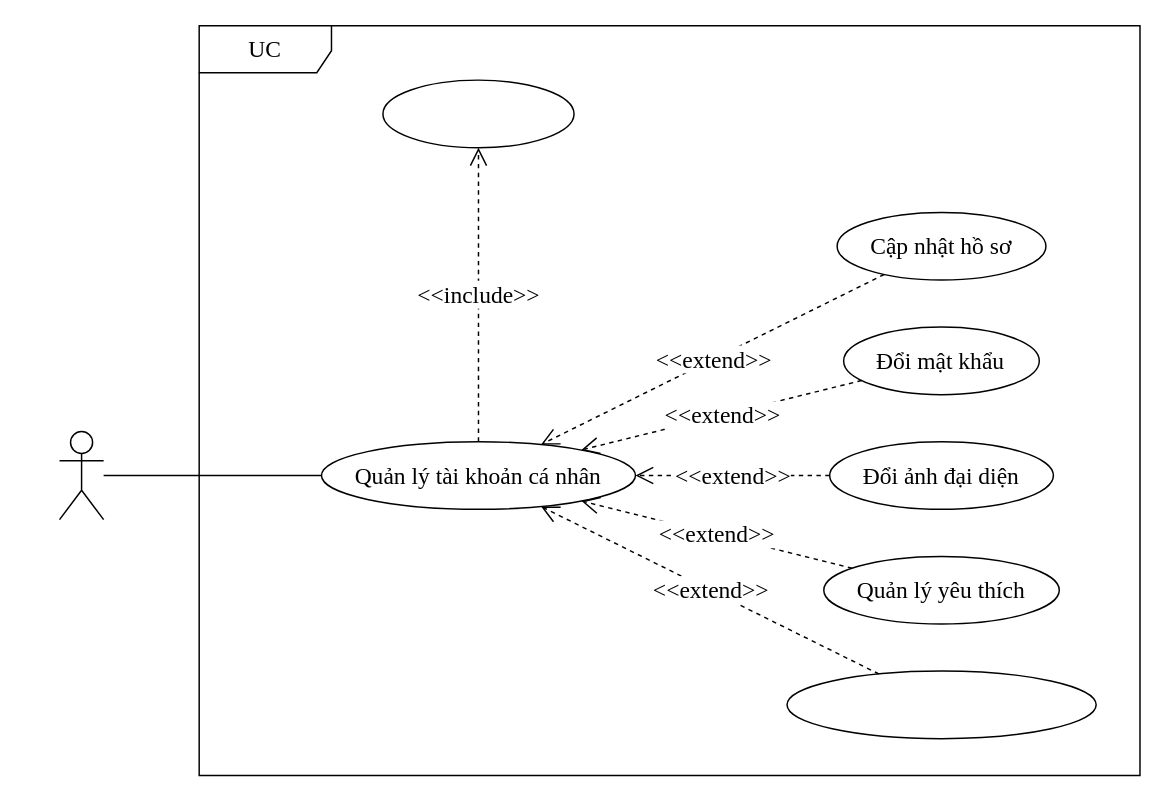
Image size: 1166x801. Some labels were removed from this diagram. The shapes that lost their labels are listed below. From the top down, each one's box as (x1, y1, x2, y2) in pixels, then its label:
(381, 79, 574, 148): Đăng nhập
(58, 430, 104, 520): Khách hàng
(786, 670, 1096, 739): Xem lịch sử xem, đã mua
